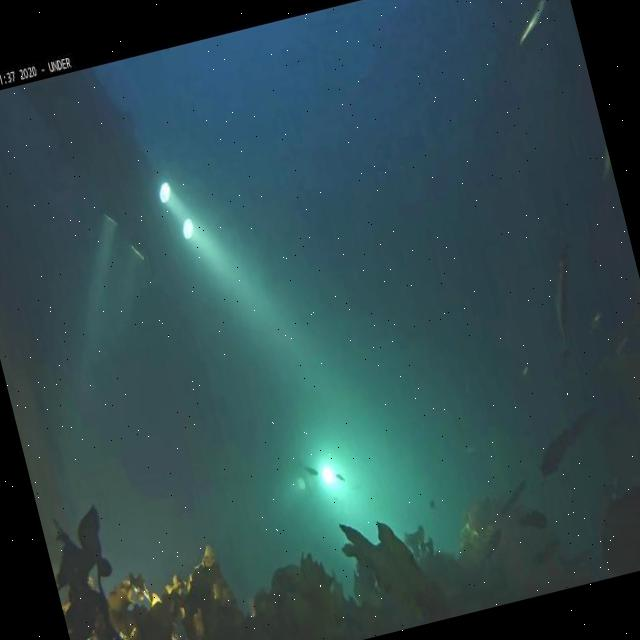fish: (538, 246, 586, 340), (530, 422, 580, 482), (503, 0, 556, 45), (499, 481, 530, 512), (518, 506, 551, 534), (479, 530, 507, 562), (304, 463, 320, 480), (334, 468, 346, 484), (428, 494, 436, 510)
